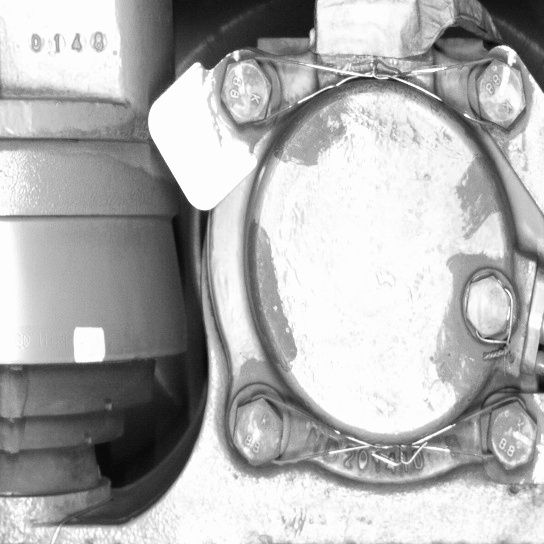IronWire: (213, 45, 537, 137), (217, 386, 539, 477)
Screw: (466, 47, 536, 135), (219, 390, 290, 473), (477, 391, 540, 475), (456, 267, 519, 349), (214, 49, 276, 131)
